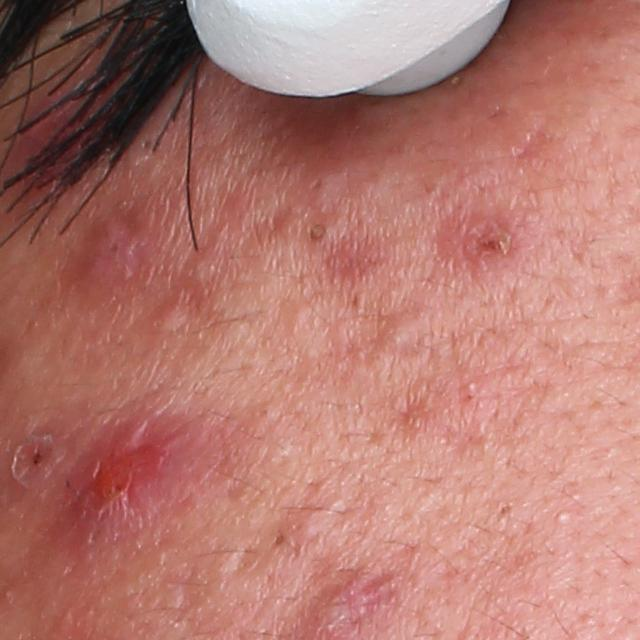atrophic_scar: (433, 180, 506, 284), (332, 302, 387, 364), (516, 121, 546, 166)
comedo: (281, 301, 309, 332), (306, 218, 331, 250), (553, 508, 577, 529), (271, 528, 290, 547)
papule: (465, 228, 515, 269), (152, 307, 191, 338)
